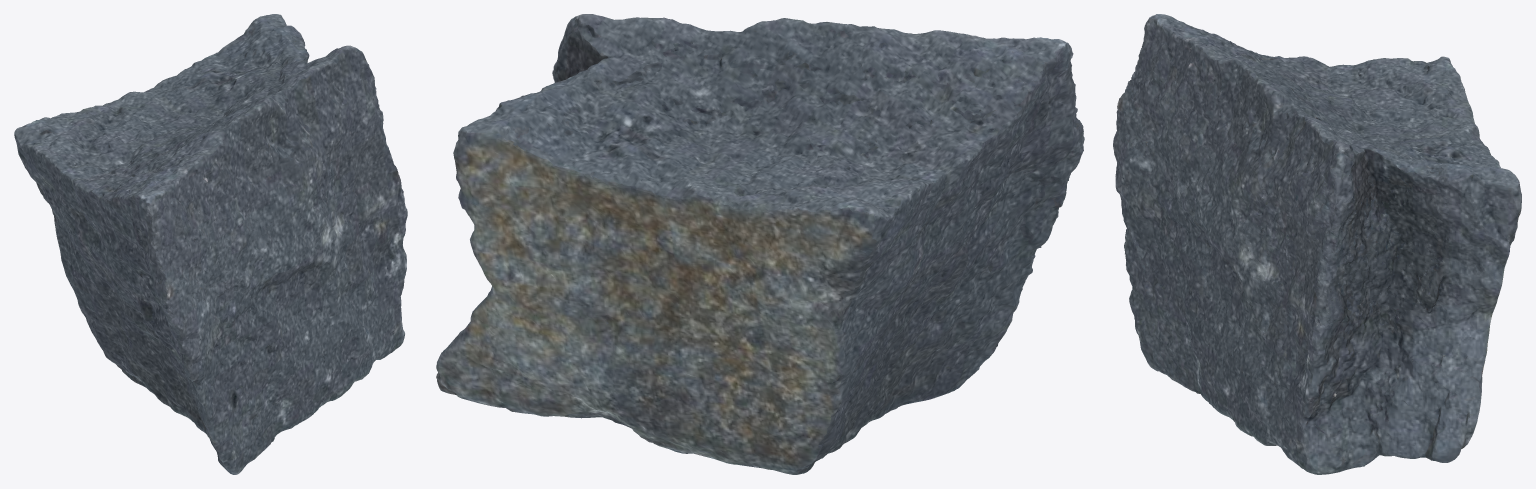
The model's file is gabbro.glb.
3 renders of one model, left to right at view 1: azimuth 30°, elevation 25°; view 2: azimuth 150°, elevation 25°; view 3: azimuth 270°, elevation 25°, orthographic. The views are drawn at different scales.
Visible parts, largest first — view 1: Object_2; view 2: Object_2; view 3: Object_2.
Part boxes in pixels (left/top/right/bottom): Object_2: left=14, top=14, right=407, bottom=474; Object_2: left=436, top=14, right=1084, bottom=474; Object_2: left=1113, top=14, right=1521, bottom=474.
Size of the model in its own units: 0.1 by 0.0842 by 0.0958.
1 material, 1 textured.
